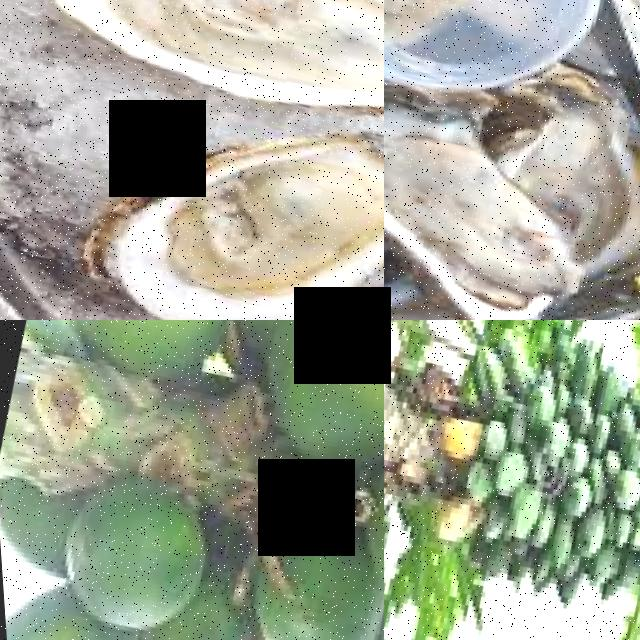oysters: (61, 73, 384, 320), (23, 0, 384, 160), (384, 71, 596, 320), (489, 71, 640, 277)
pawpaw: (236, 320, 384, 494), (229, 508, 384, 640), (57, 320, 249, 399), (0, 592, 123, 640), (491, 482, 542, 549), (562, 514, 604, 566), (602, 468, 640, 517)
